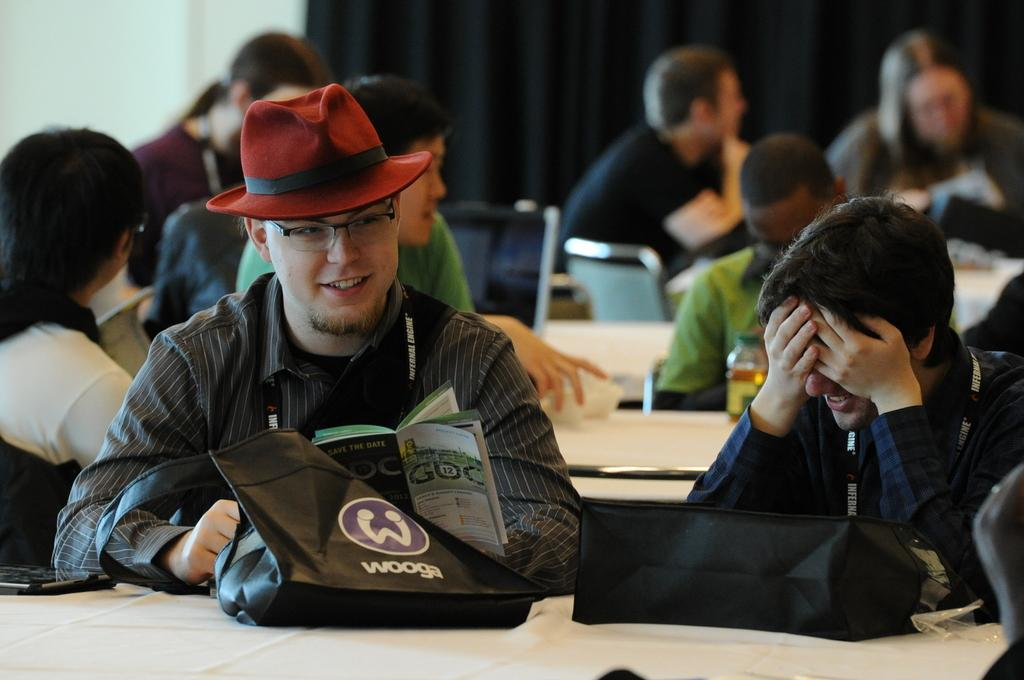Hat: (199, 81, 436, 222)
